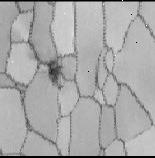good_void: (43, 60, 62, 90)
